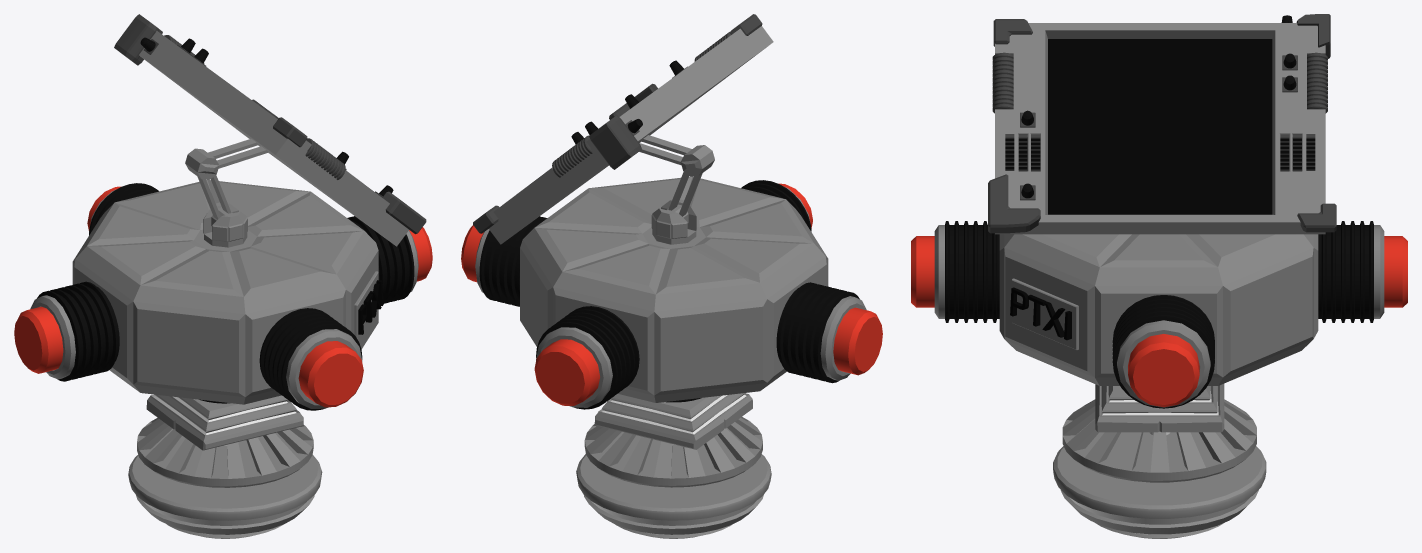
Rendered from Player V2.fbx.
3 renders of one model, left to right at view 1: azimuth 30°, elevation 25°; view 2: azimuth 150°, elevation 25°; view 3: azimuth 270°, elevation 25°, orthographic. The views are drawn at different scales.
Visible parts, largest first — view 1: Ptxi levitador unido; view 2: Ptxi levitador unido; view 3: Ptxi levitador unido.
Part boxes in pixels (x1,y1,x2,y2): Ptxi levitador unido: (14,14,432,538); Ptxi levitador unido: (461,14,882,538); Ptxi levitador unido: (911,14,1407,538).
Bounding box in the file's own units: 193 × 217 × 193.
